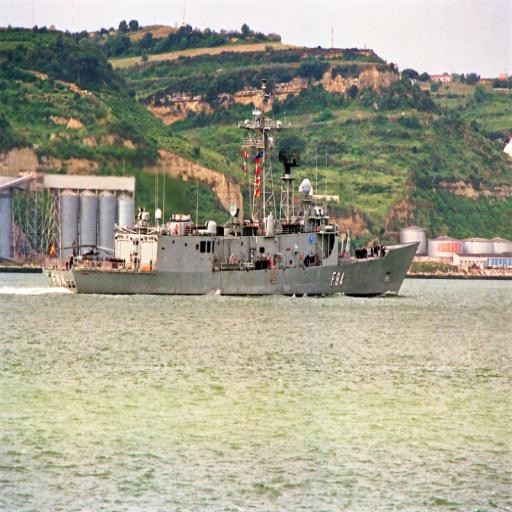Fragata: (44, 74, 422, 302)
